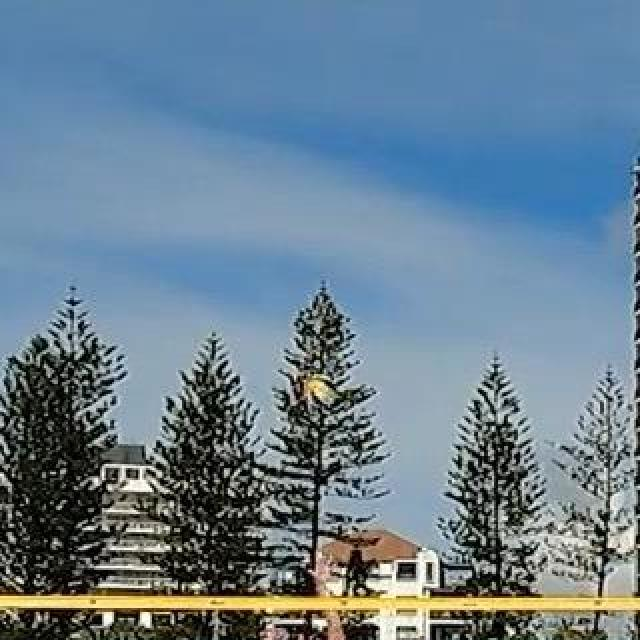volleyball: (303, 374, 337, 408)
